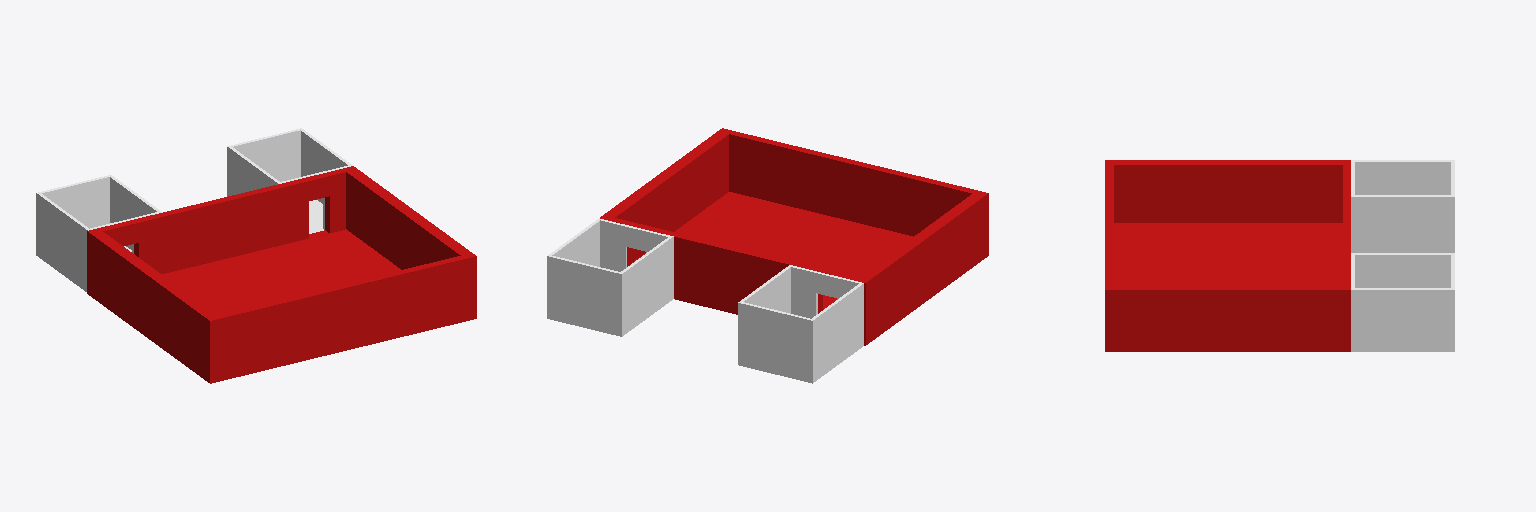
The model's file is Cube (red).obj.
3 views of the same model, side by side, from view 1: azimuth 30°, elevation 25°; view 2: azimuth 150°, elevation 25°; view 3: azimuth 270°, elevation 25° (orthographic).
Parts seen in each view (by area): view 1: Cube (red); view 2: Cube (red); view 3: Cube (red).
Part boxes in pixels (left/top/right/bottom): Cube (red): left=36, top=128, right=476, bottom=383; Cube (red): left=547, top=128, right=988, bottom=383; Cube (red): left=1105, top=160, right=1454, bottom=351.
Bounding box in the file's own units: 24 × 5.4 × 27.26.